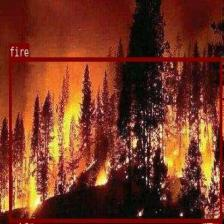fire: (9, 56, 222, 222)
